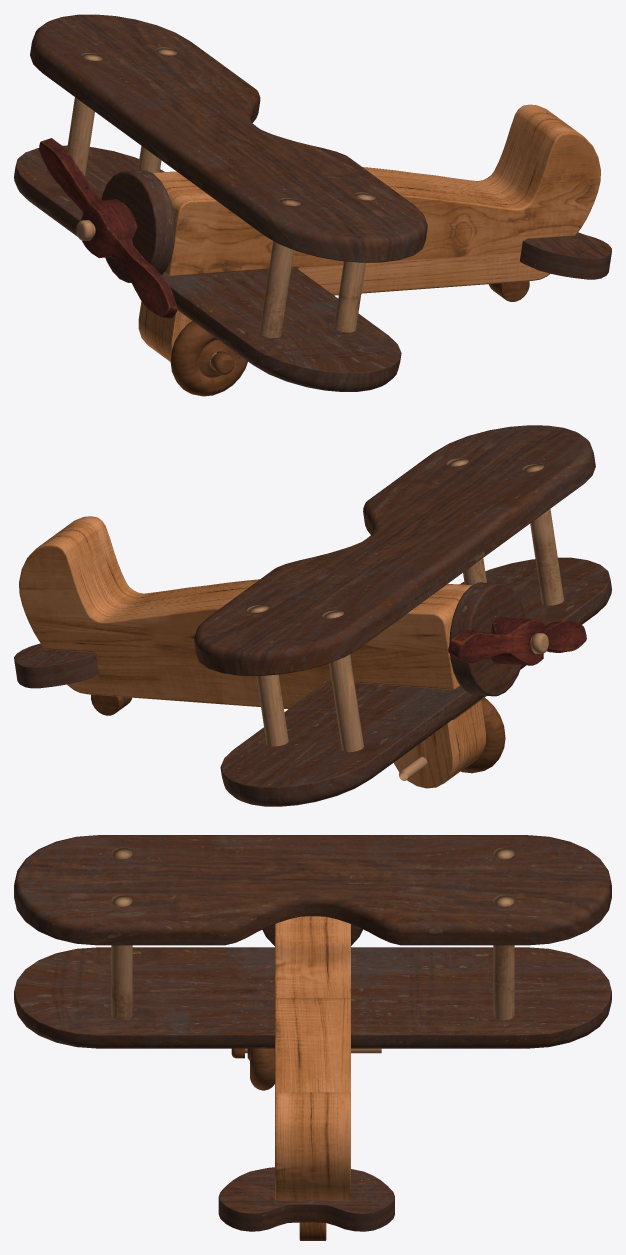
The model's file is avion de juguete.fbx.
3 renders of one model, top to bottom at view 1: azimuth 30°, elevation 25°; view 2: azimuth 150°, elevation 25°; view 3: azimuth 270°, elevation 25°, orthographic. The views are drawn at different scales.
Visible parts, largest first — view 1: Cylinder.010; view 2: Cylinder.010; view 3: Cylinder.010.
Boxes of the visible parts, x1,y1,x2,y2 form: Cylinder.010: [14, 14, 611, 396]; Cylinder.010: [14, 425, 611, 806]; Cylinder.010: [14, 835, 611, 1240].
Size of the model in its own units: 23.7 by 11.26 by 25.34.
1 material, 1 textured.
